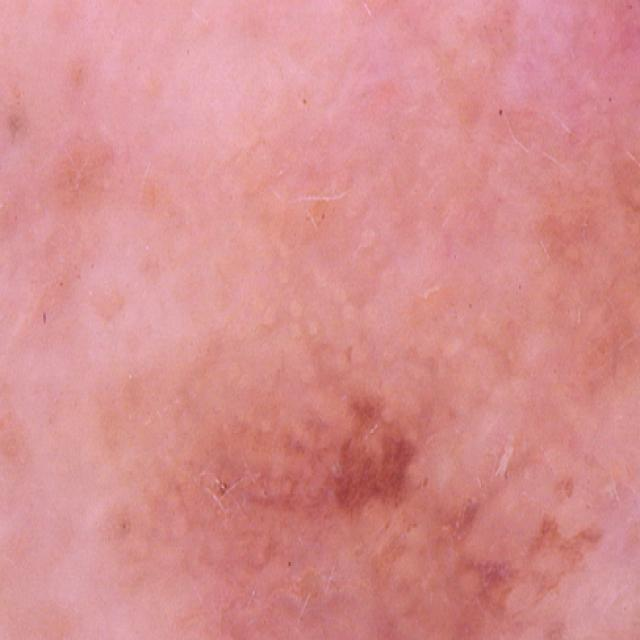Keratosis: (229, 350, 450, 591), (504, 117, 640, 376)
